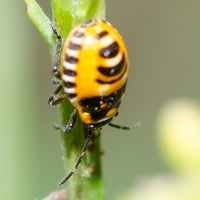insect: (48, 20, 137, 184)
